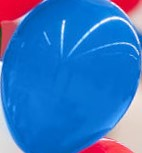Balloon: (1, 1, 141, 153)
